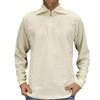abbigliamento_uomo: (14, 5, 89, 99)
